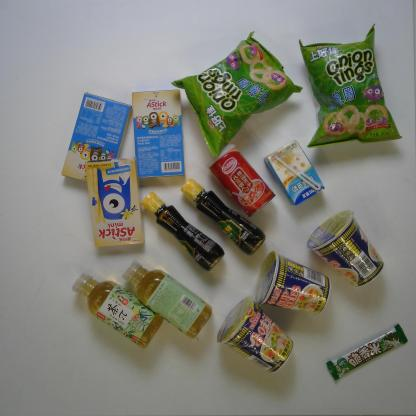Canned Food: (209, 144, 278, 218)
Chocolate: (327, 315, 408, 386)
Dessert: (59, 91, 139, 193), (85, 154, 158, 256), (125, 86, 189, 178)
Drink: (68, 268, 164, 350), (124, 260, 214, 340)
Instant Noodles: (304, 205, 394, 298), (216, 298, 300, 380), (250, 251, 338, 320)
Milk: (262, 136, 333, 212)
Puffed Food: (171, 31, 302, 158), (291, 27, 402, 155)
Seasoner: (176, 176, 270, 256), (139, 190, 224, 274)
